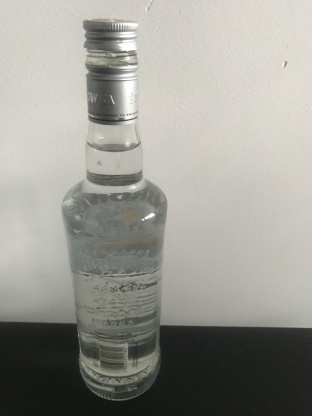nakretka: (81, 15, 141, 126)
